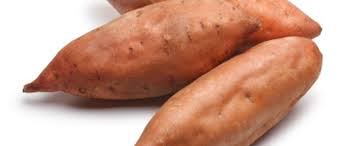Sweet Potato: (18, 1, 320, 95), (123, 38, 322, 146)
